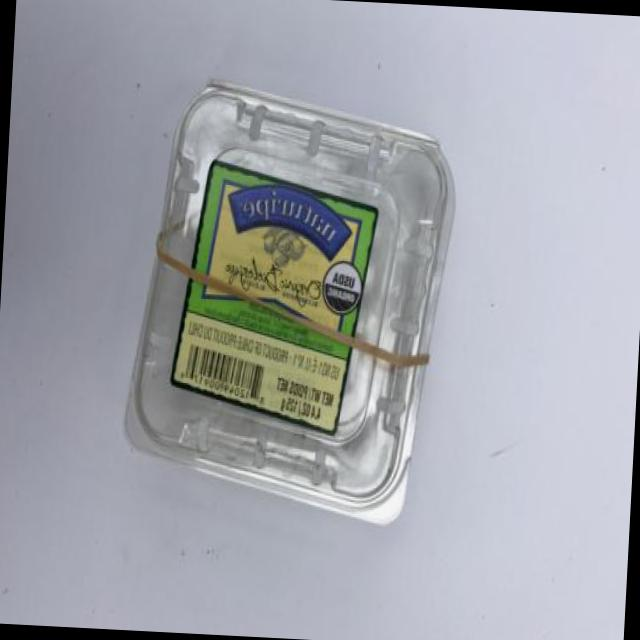plastic: (162, 83, 453, 354)
